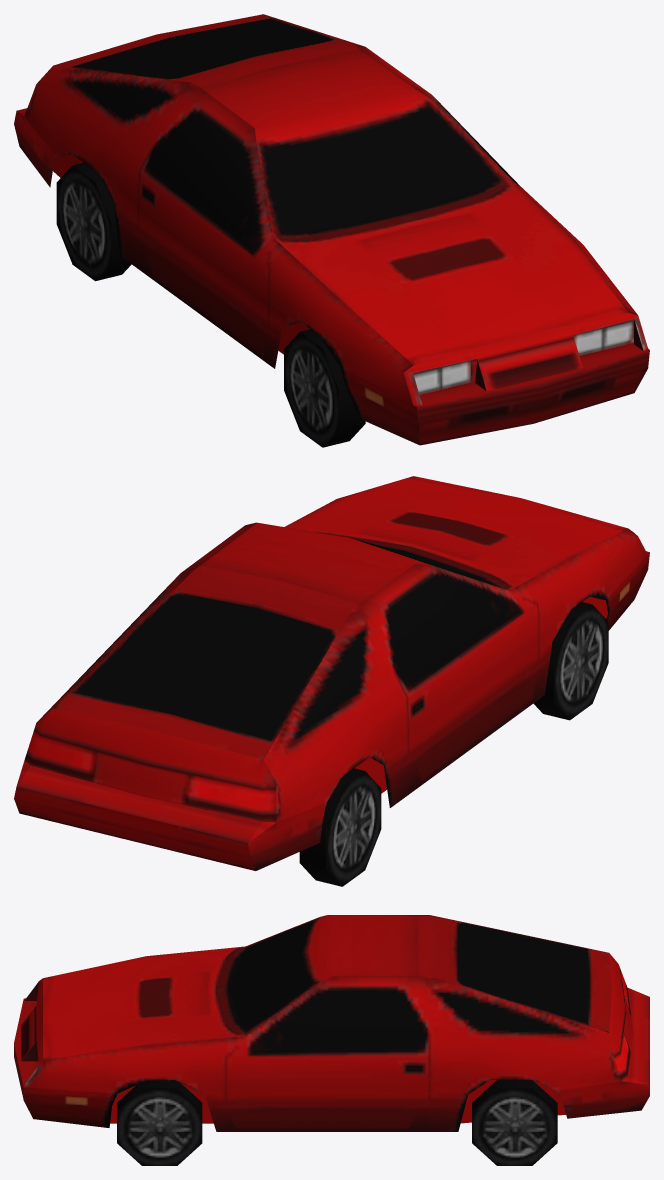
Rendered from Car_ChryslerLazer.fbx.
3 views of the same model, one above another, from view 1: azimuth 30°, elevation 25°; view 2: azimuth 150°, elevation 25°; view 3: azimuth 270°, elevation 25° (orthographic). The views are drawn at different scales.
Parts seen in each view (by area): view 1: Car_ChryslerLazer; view 2: Car_ChryslerLazer; view 3: Car_ChryslerLazer.
Boxes of the visible parts, x1=… form: Car_ChryslerLazer: x1=14, y1=14, x2=649, y2=447; Car_ChryslerLazer: x1=14, y1=476, x2=649, y2=886; Car_ChryslerLazer: x1=14, y1=915, x2=649, y2=1165.
Bounding box in the file's own units: 1.59 × 1.24 × 4.14.
